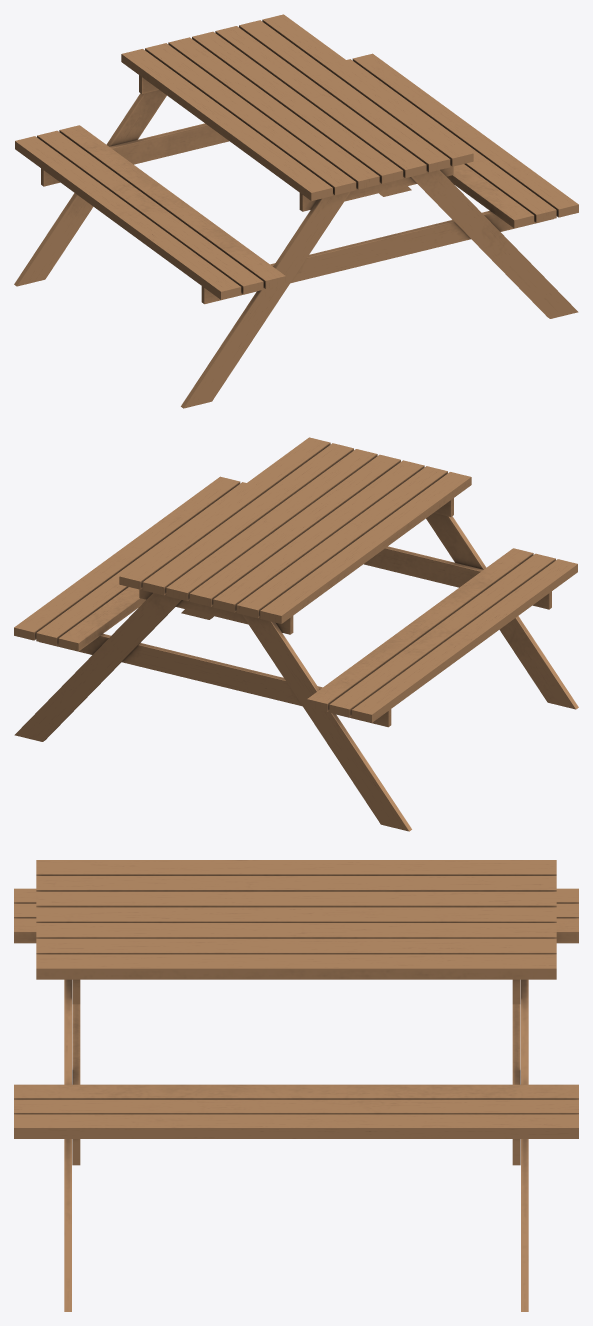
File: lawka.fbx
The picture shows the model from 3 angles, top to bottom: view 1: azimuth 30°, elevation 25°; view 2: azimuth 150°, elevation 25°; view 3: azimuth 270°, elevation 25°; orthographic projection. The views are drawn at different scales.
Visible parts, largest first — view 1: lawka_LOD0; view 2: lawka_LOD0; view 3: lawka_LOD0.
Boxes of the visible parts, x1,y1,x2,y2 form: lawka_LOD0: (14,14,578,408); lawka_LOD0: (14,437,578,831); lawka_LOD0: (14,860,578,1311).
Size of what is drawn, in the model's own units: 3.98 by 1.87 by 3.6.
